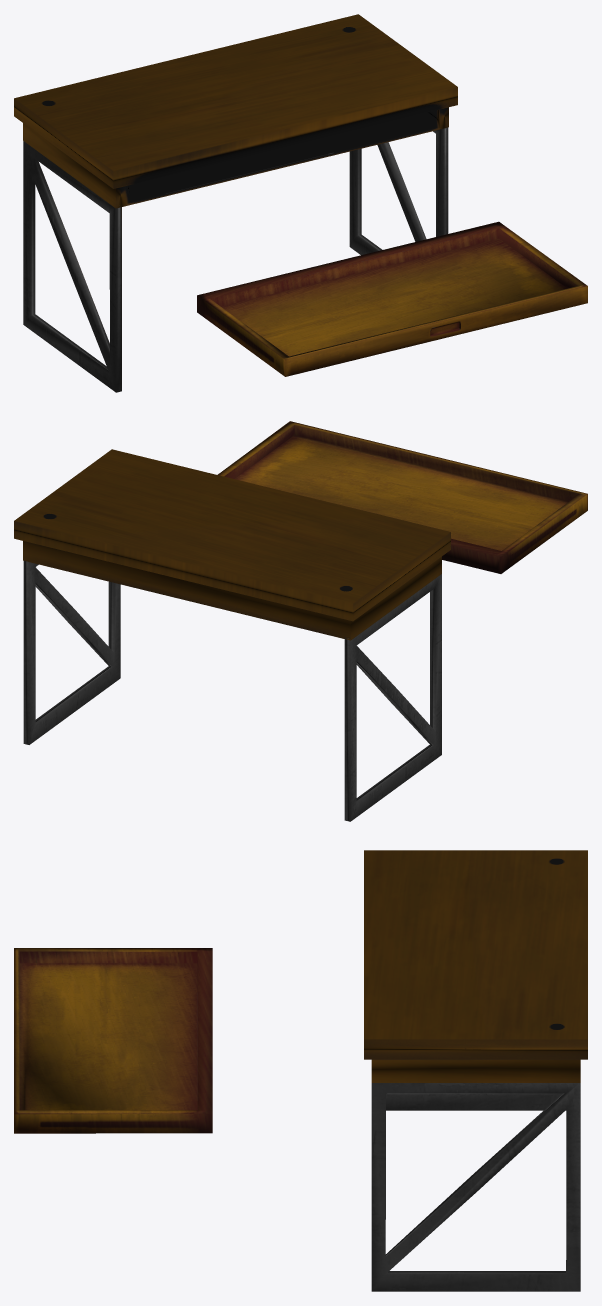
File: desk.fbx
3 views of the same model, one above another, from view 1: azimuth 30°, elevation 25°; view 2: azimuth 150°, elevation 25°; view 3: azimuth 270°, elevation 25° (orthographic). The views are drawn at different scales.
Parts seen in each view (by area): view 1: WoodenSchoolDesk, WoodenSchoolDesk.002; view 2: WoodenSchoolDesk, WoodenSchoolDesk.002; view 3: WoodenSchoolDesk, WoodenSchoolDesk.002.
Boxes of the visible parts, x1,y1,x2,y2 form: WoodenSchoolDesk: (14,14,457,392); WoodenSchoolDesk.002: (197,221,587,376); WoodenSchoolDesk: (14,449,450,821); WoodenSchoolDesk.002: (217,421,587,573); WoodenSchoolDesk: (364,850,587,1291); WoodenSchoolDesk.002: (14,948,212,1133).
Size of the model in its own units: 110 by 69.14 by 141.
